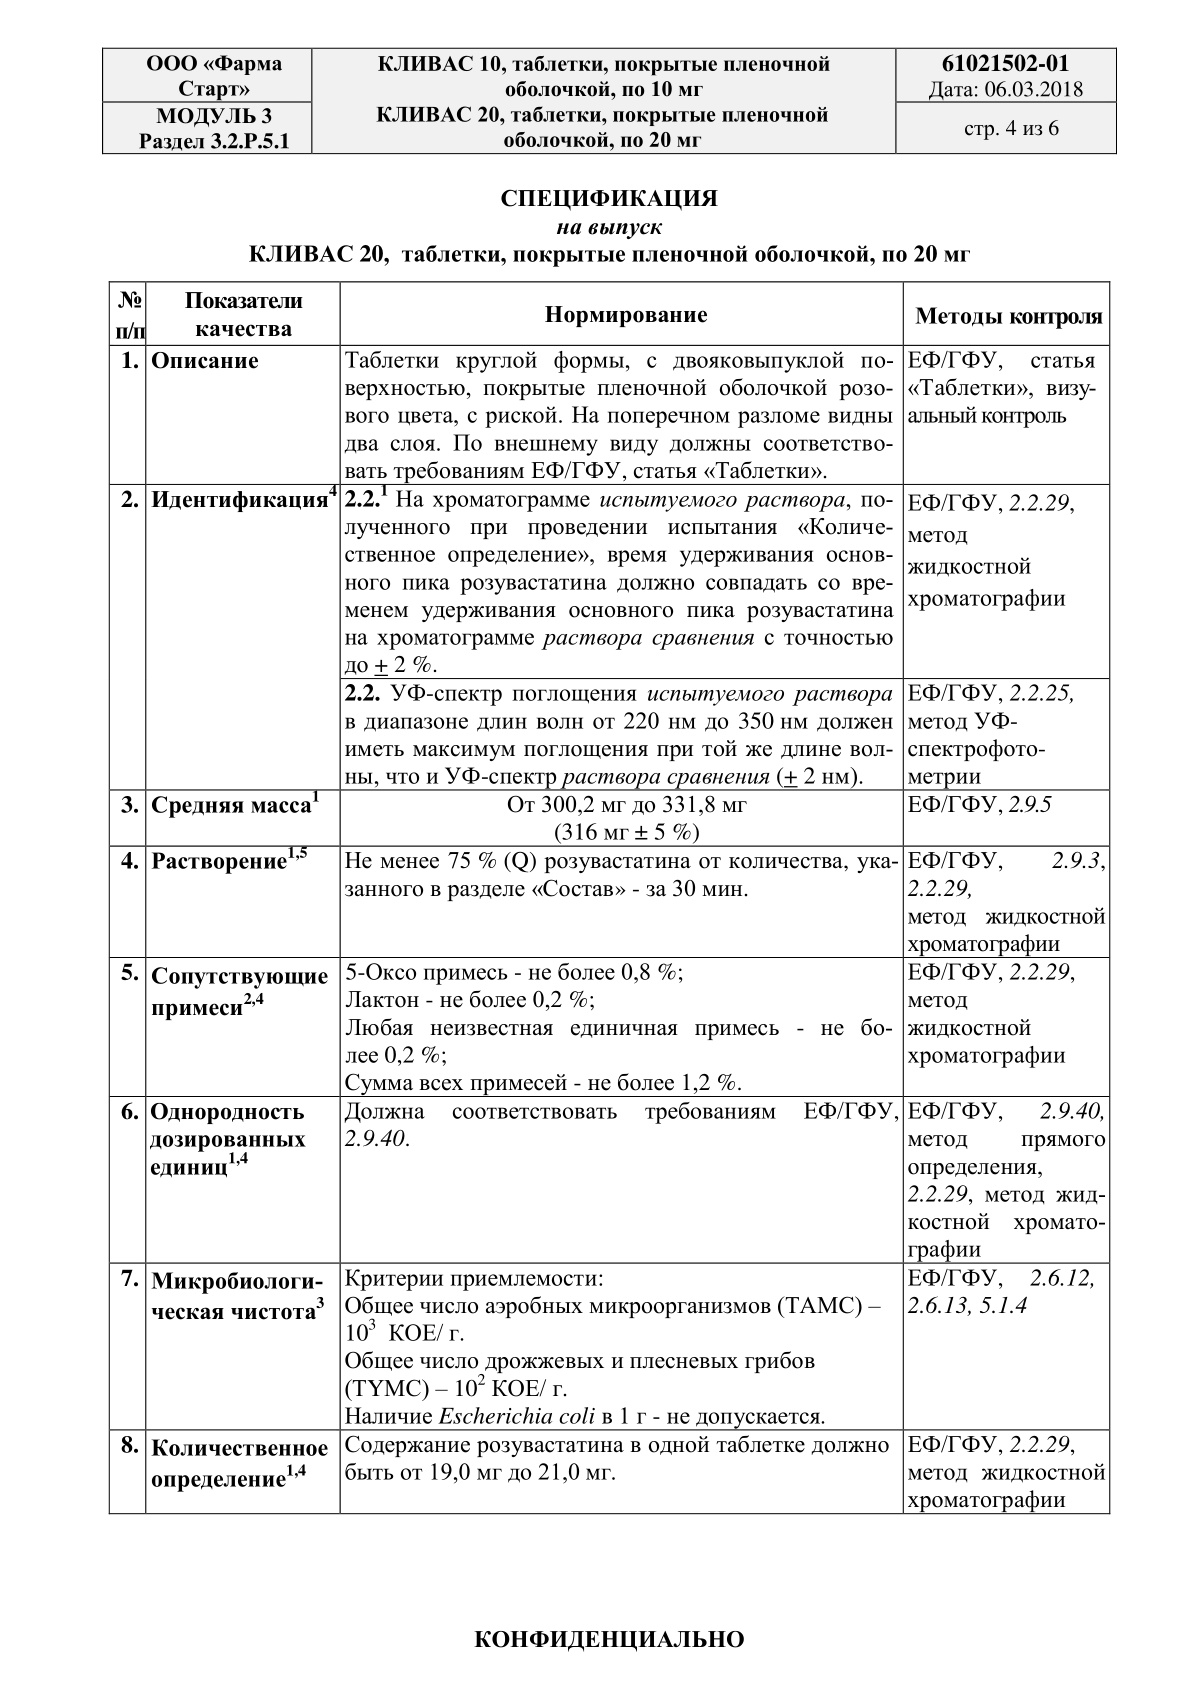full_lined: (108, 278, 1111, 1515)
merged_cells: (101, 46, 1118, 155)
